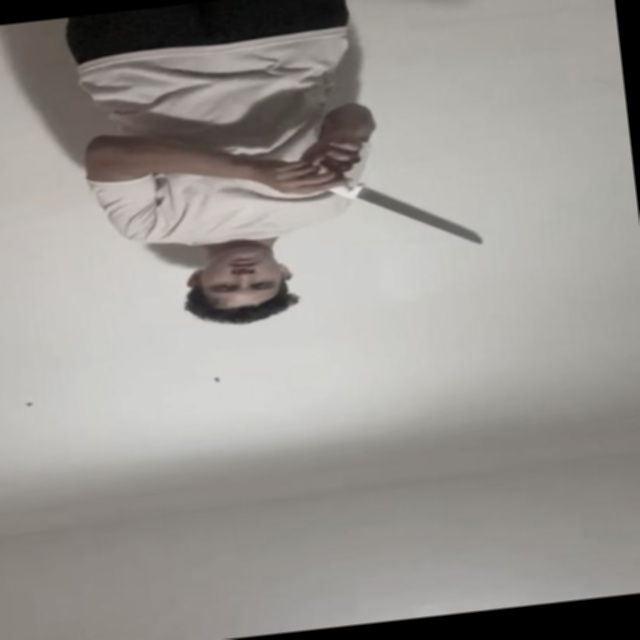Sharp-Object: (358, 176, 485, 257)
